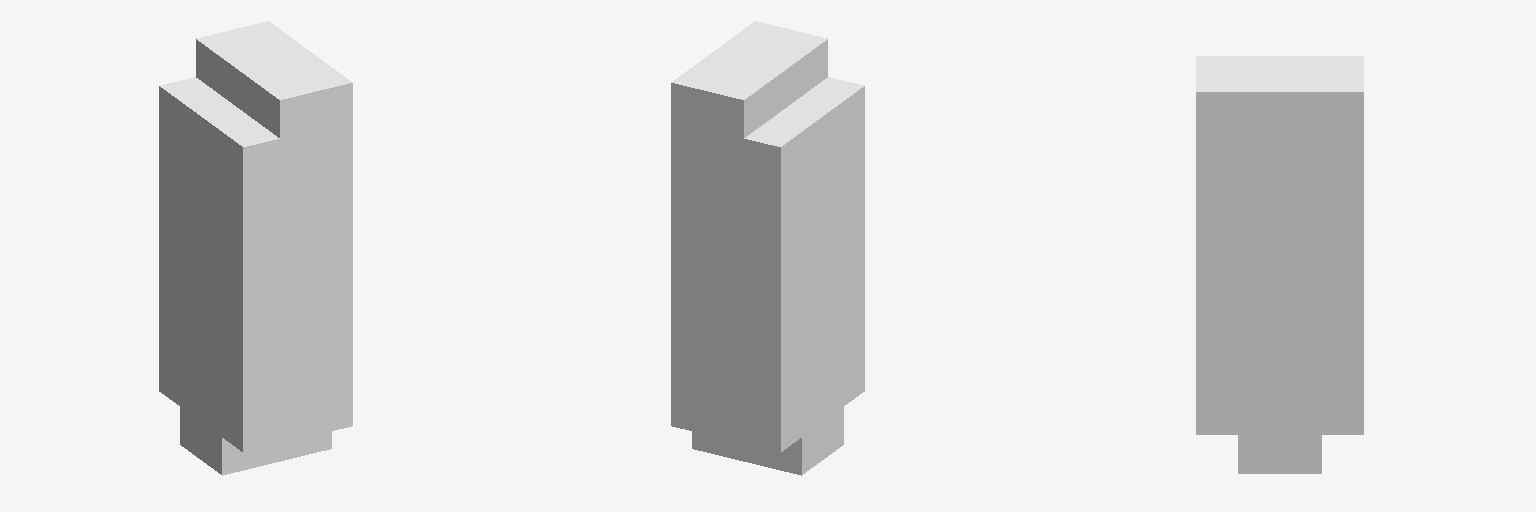
The model's file is JooDeeBr.obj.
3 views of the same model, side by side, from view 1: azimuth 30°, elevation 25°; view 2: azimuth 150°, elevation 25°; view 3: azimuth 270°, elevation 25° (orthographic).
Parts seen in each view (by area): view 1: JooDee.003; view 2: JooDee.003; view 3: JooDee.003.
Boxes of the visible parts, x1=… form: JooDee.003: x1=159, y1=21, x2=352, y2=475; JooDee.003: x1=671, y1=21, x2=864, y2=475; JooDee.003: x1=1196, y1=56, x2=1363, y2=473.
Size of the model in its own units: 0.3 by 1 by 0.4.